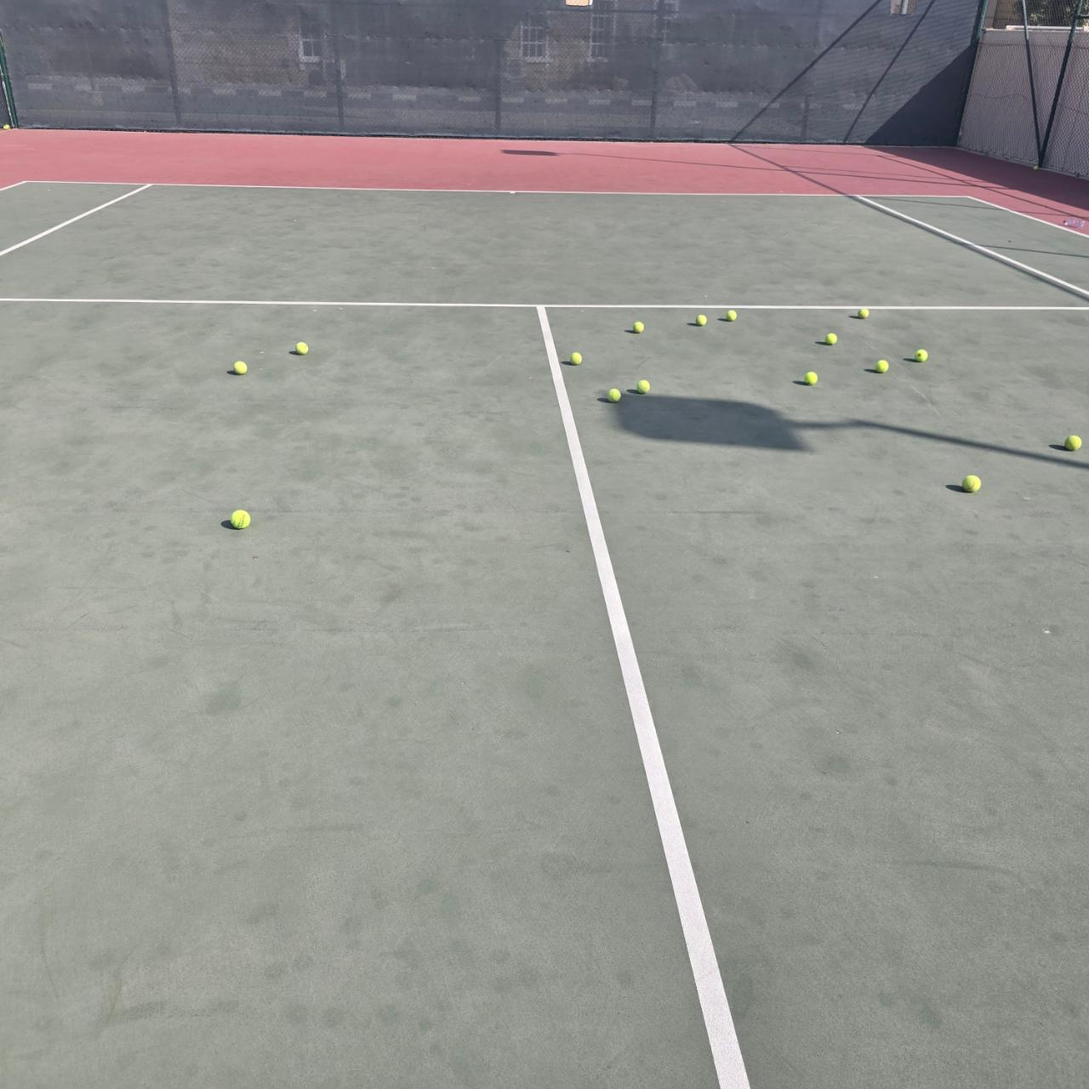tennis-ball: (229, 506, 250, 529), (961, 472, 981, 492), (1063, 433, 1080, 450), (803, 369, 818, 385), (232, 358, 247, 373), (294, 339, 308, 355), (606, 386, 620, 402), (636, 378, 650, 393), (631, 319, 645, 334), (568, 350, 582, 364), (914, 347, 927, 362), (875, 357, 888, 372), (724, 308, 737, 322), (824, 331, 837, 345), (856, 305, 869, 318), (695, 312, 707, 325)
